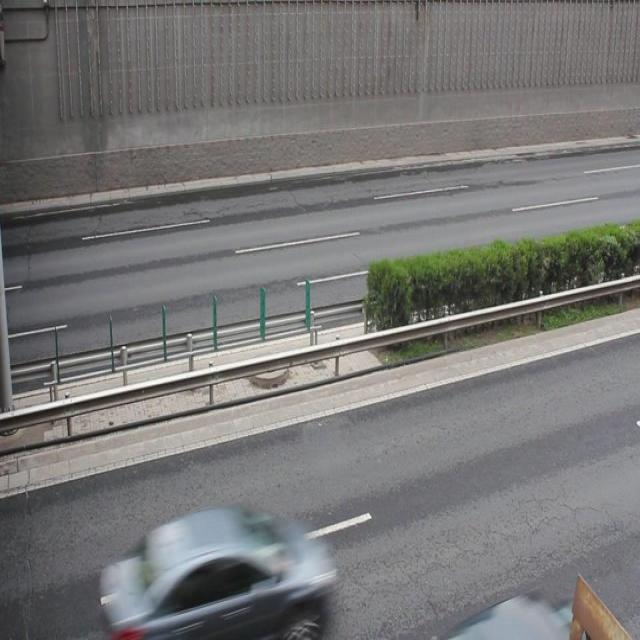car: (111, 502, 330, 640)
